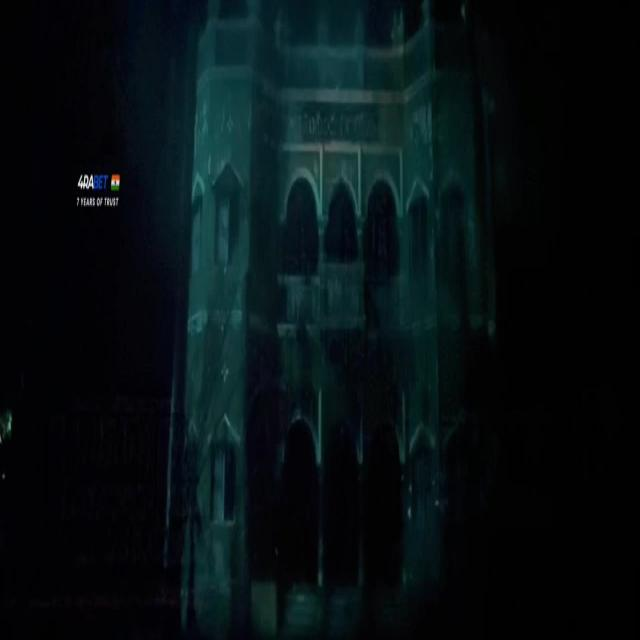4rabet: (76, 164, 120, 208)
